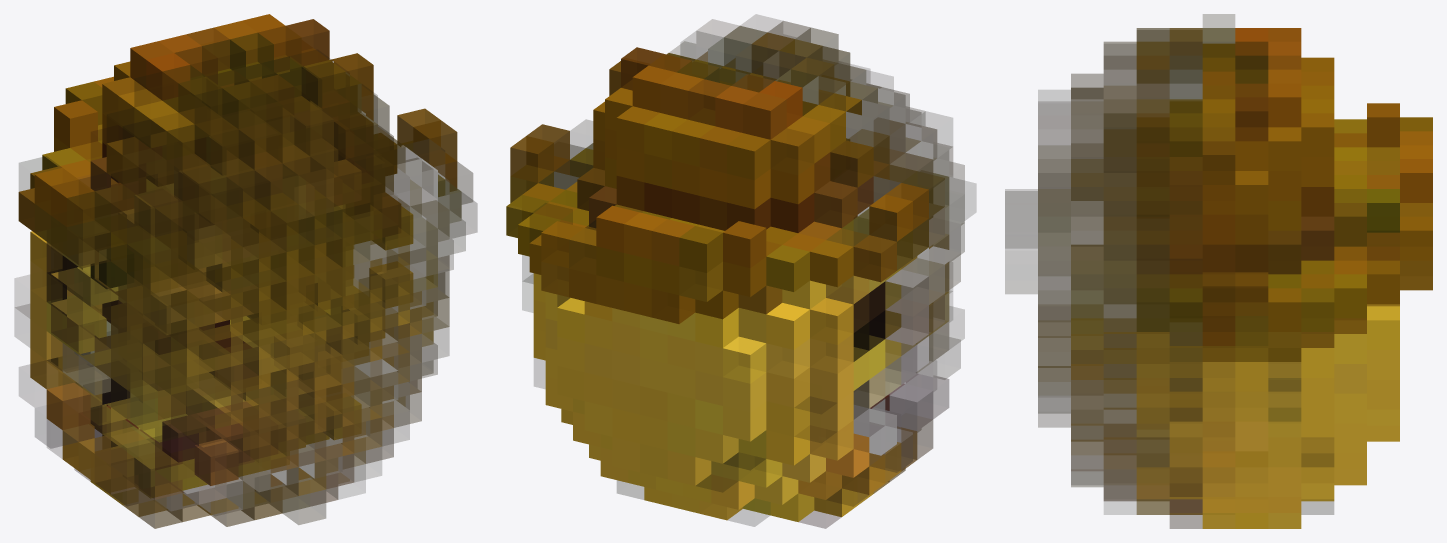
Rendered from regen_iter_30.obj.
The picture shows the model from 3 angles, left to right: view 1: azimuth 30°, elevation 25°; view 2: azimuth 150°, elevation 25°; view 3: azimuth 270°, elevation 25°; orthographic projection. The views are drawn at different scales.
Parts seen in each view (by area): view 1: regen_iter_30; view 2: regen_iter_30; view 3: regen_iter_30.
Part boxes in pixels (x1,y1,x2,y2): regen_iter_30: (14,14,477,528); regen_iter_30: (506,14,975,528); regen_iter_30: (1005,14,1432,528).
Size of the model in its own units: 1.4 by 1.4 by 1.3.
